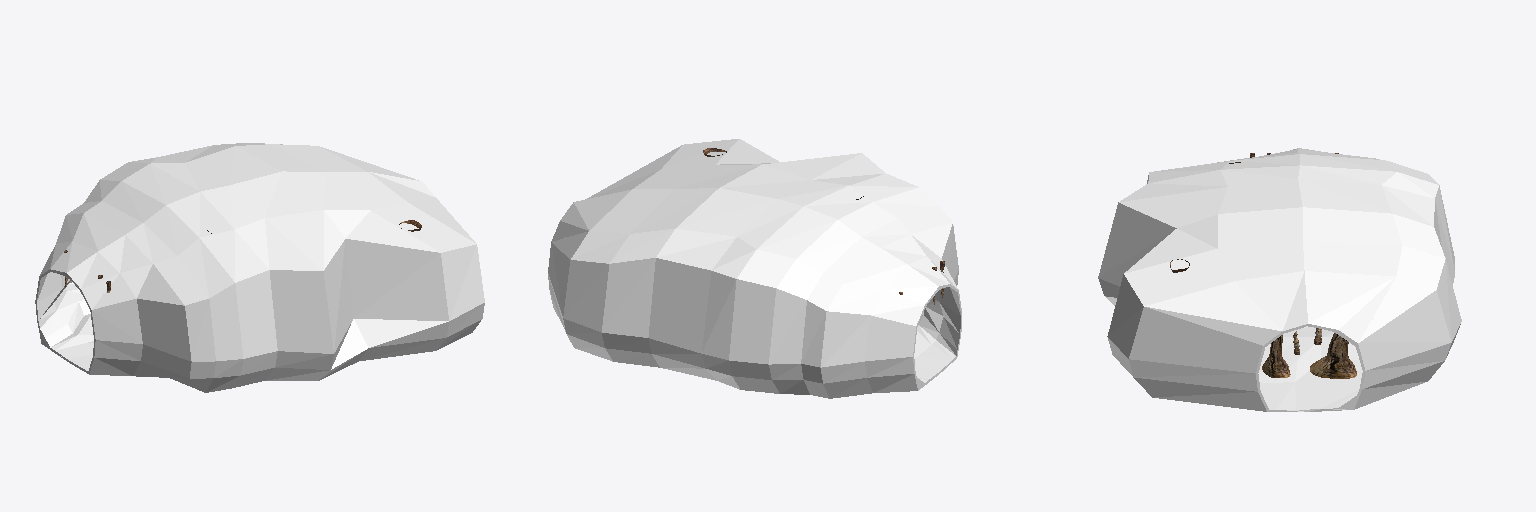
3 views of the same model, side by side, from view 1: azimuth 30°, elevation 25°; view 2: azimuth 150°, elevation 25°; view 3: azimuth 270°, elevation 25° (orthographic).
Visible parts, largest first — view 1: entrance; view 2: entrance; view 3: entrance, cavelarge.
Part boxes in pixels (x1,y1,x2,y2): entrance: (35, 143, 484, 392); entrance: (548, 139, 961, 398); entrance: (1098, 148, 1461, 411); cavelarge: (1170, 153, 1356, 378).
Bounding box in the file's own units: 392 × 140 × 338.
Materials: 3 (1 with a texture image).